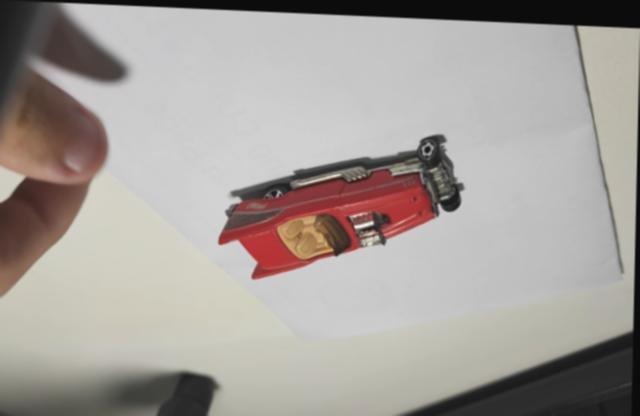03_V8: (219, 130, 465, 277)
